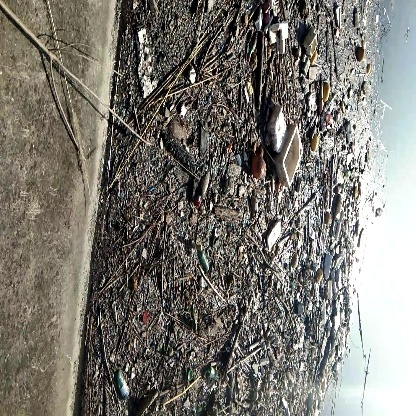branch: (9, 6, 125, 144)
